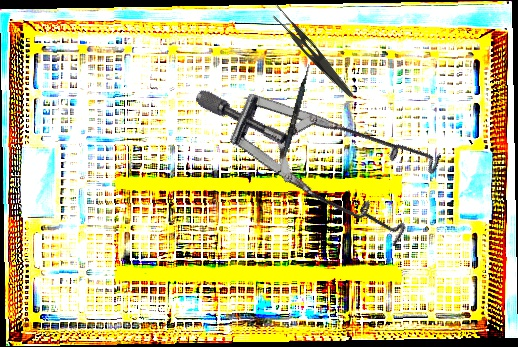Dressing Forceps: (264, 1, 364, 100)
Spatula Surgical: (276, 63, 312, 176)
Speculum: (192, 0, 469, 294)
